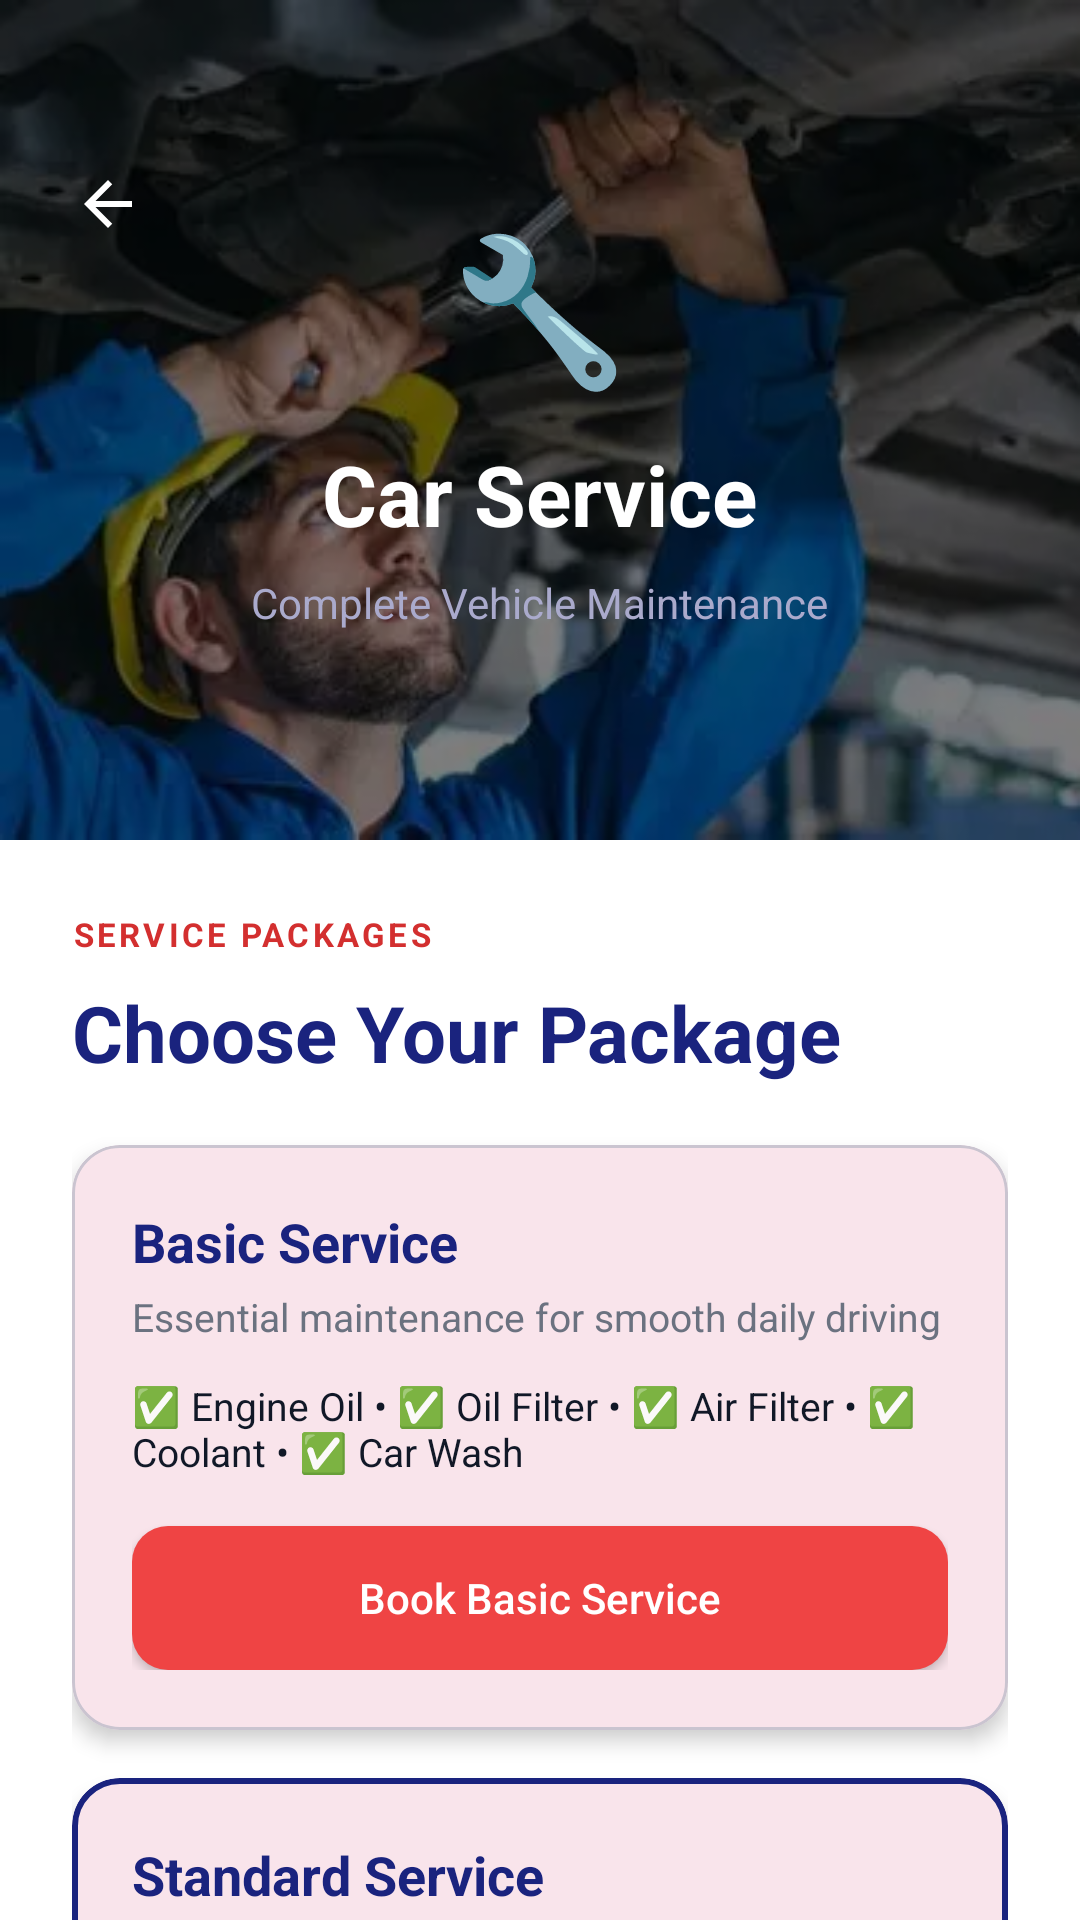

Icons on this 1080x1920 Android screen, each with the point to tap as (x=x, y=y):
back: (x=108, y=204)
